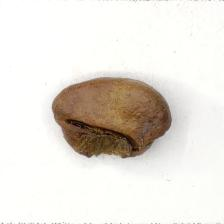NG: (58, 114, 143, 159)
